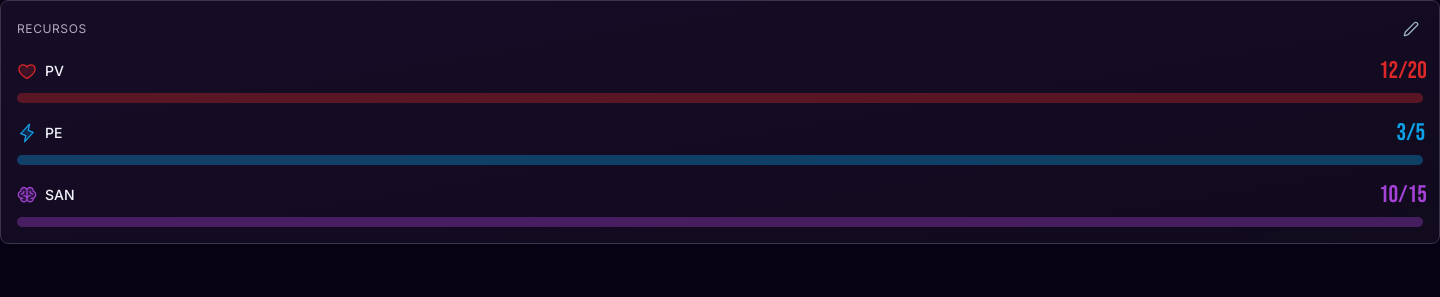
Scenario: Confirmação de recursos: card mobile › rejeita PE inválido 6 sem salvar nem truncar
Click the button named "Editar recursos". click: (1411, 29)
box: [1399,17,1423,41]
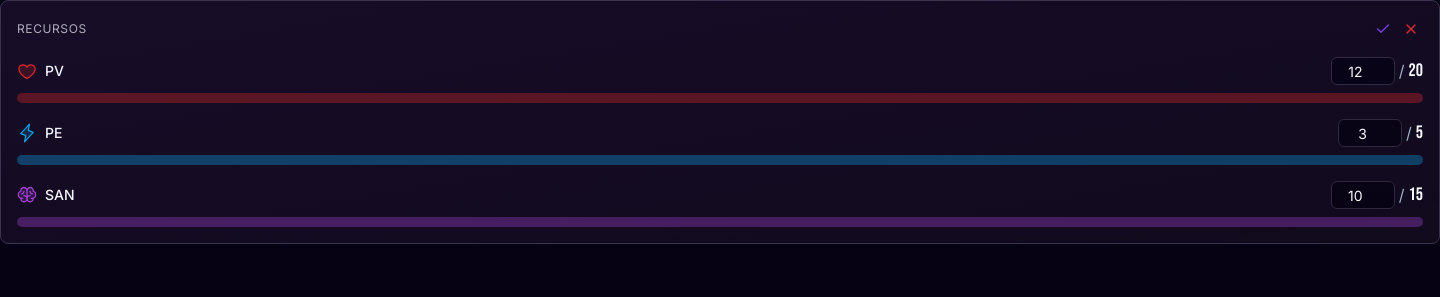
Replace the text in the number field named "PE atual" with "6". click: (1370, 133)
box: [1338,119,1402,147]
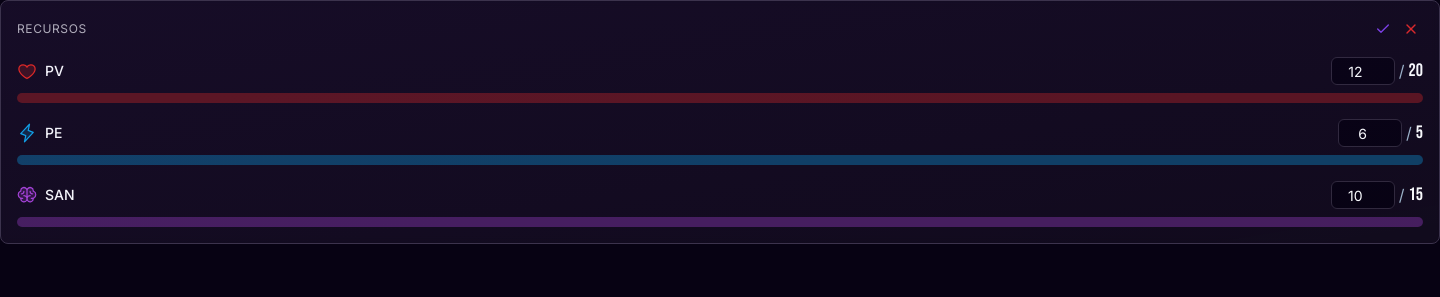
Click the button named "Salvar recursos". click: (1383, 29)
box: [1371,17,1395,41]
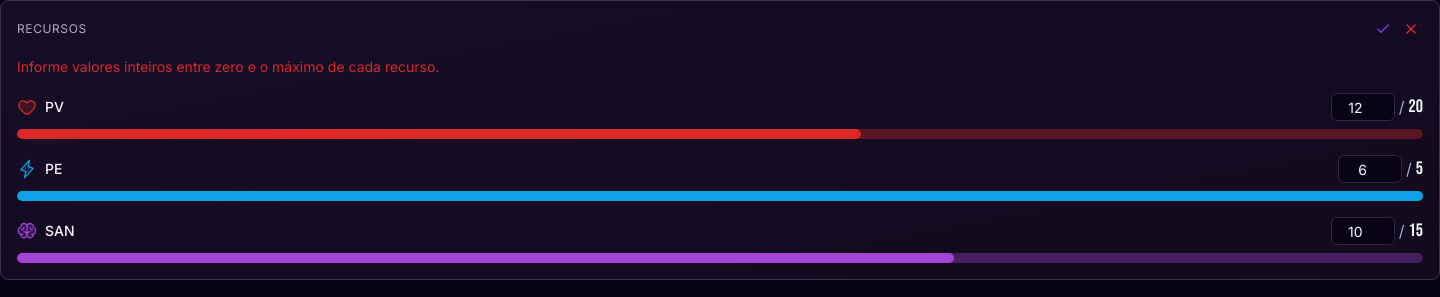
Result: the message shows "valores inteiros" at [17,58,440,75]
